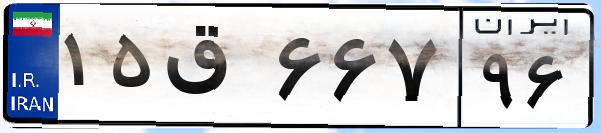1: (57, 26, 110, 100)
5: (110, 28, 158, 98)
6: (270, 28, 330, 110), (330, 28, 385, 110), (525, 38, 570, 115)
7: (385, 28, 445, 110)
9: (475, 38, 525, 113)
ق: (158, 20, 270, 120)
